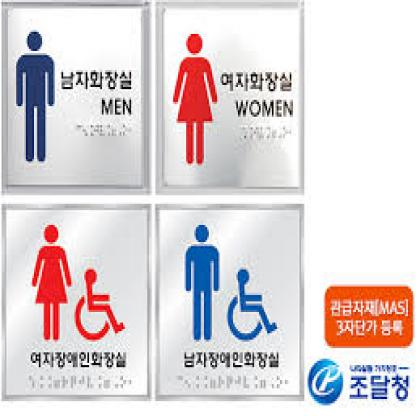toilet: (28, 220, 128, 345), (181, 223, 280, 343), (12, 26, 58, 166), (173, 31, 218, 167)
